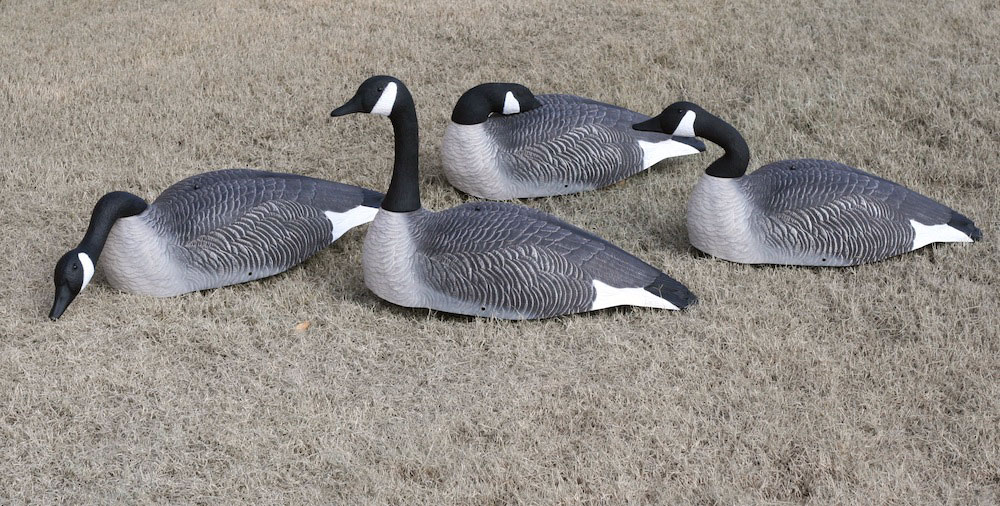goose: (327, 71, 708, 332), (632, 99, 985, 274), (45, 165, 423, 326), (441, 74, 705, 201)
